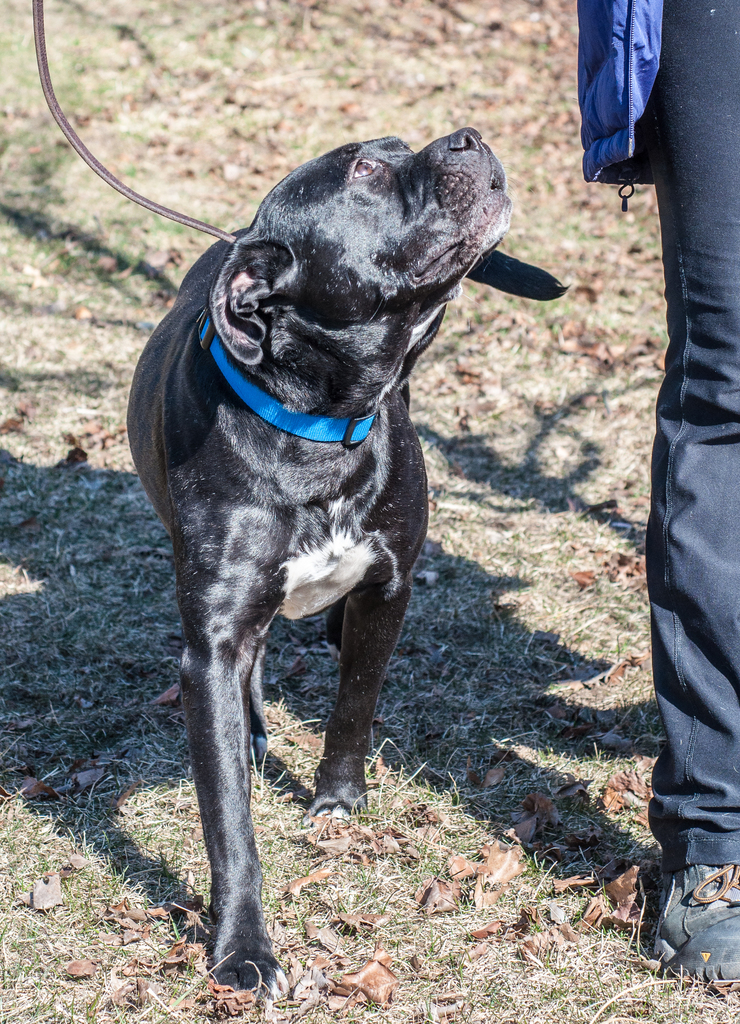Person: (576, 0, 739, 988)
